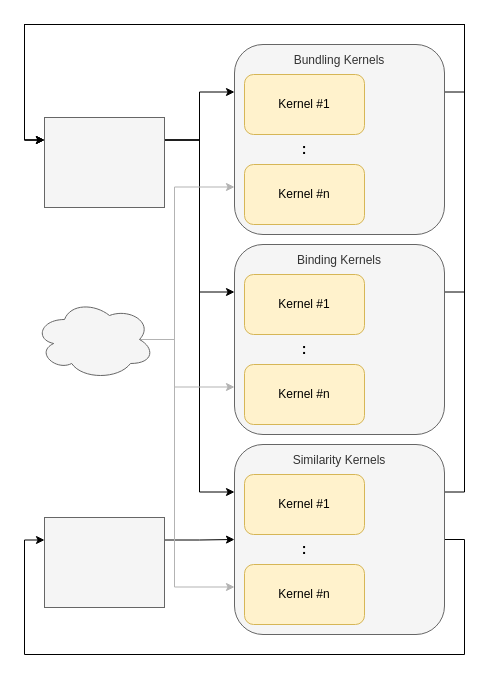
Some shapes in this 490 by 680 pixel diagram are drawn without their labels. Each missing label, with the centre of its shape:
"Kernel Control Logic" belongs at point (94, 339).
"Wr Rd Hypervector Memory" belongs at point (104, 162).
"Wr Rd Similarity Cache" belongs at point (104, 562).
